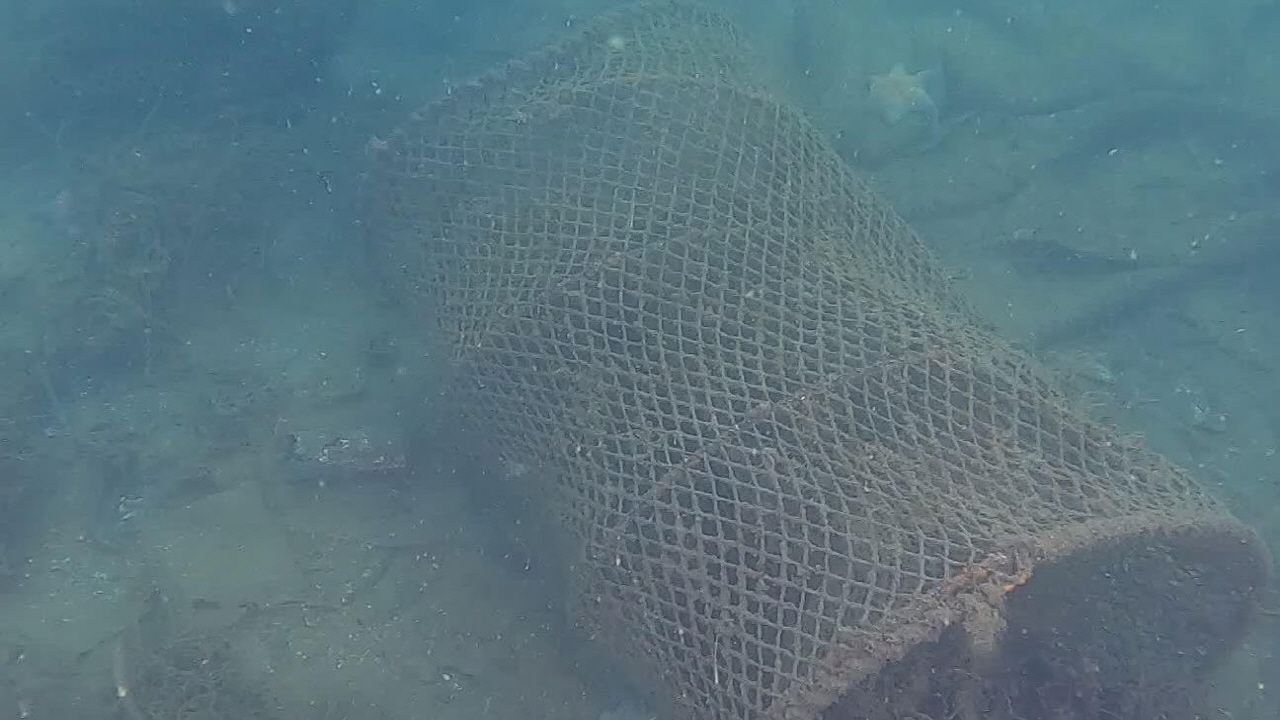spring fish trap: (357, 0, 1274, 720)
